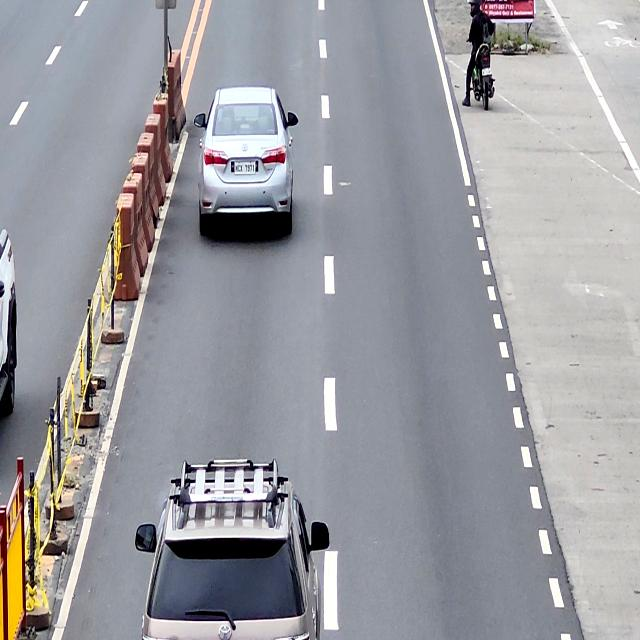Car: (133, 460, 330, 640), (192, 89, 300, 240)
License-Plate: (235, 162, 254, 174), (482, 68, 492, 76)
Motorcycle: (470, 29, 497, 110)
